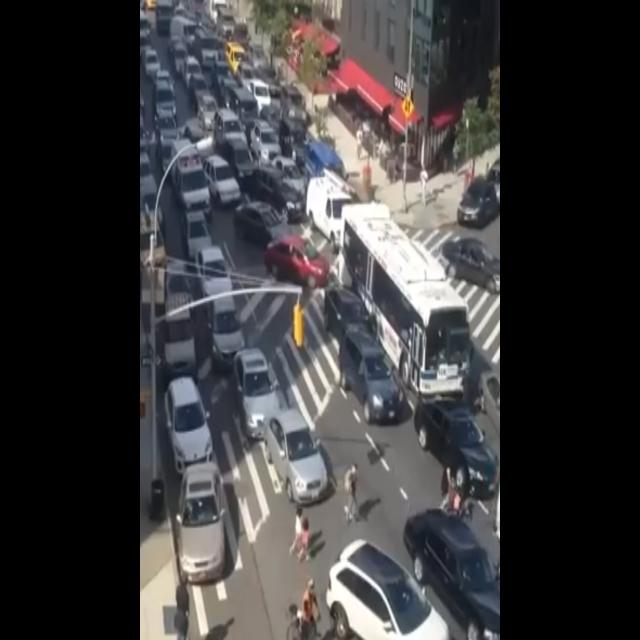Ambulance: (168, 131, 215, 218)
